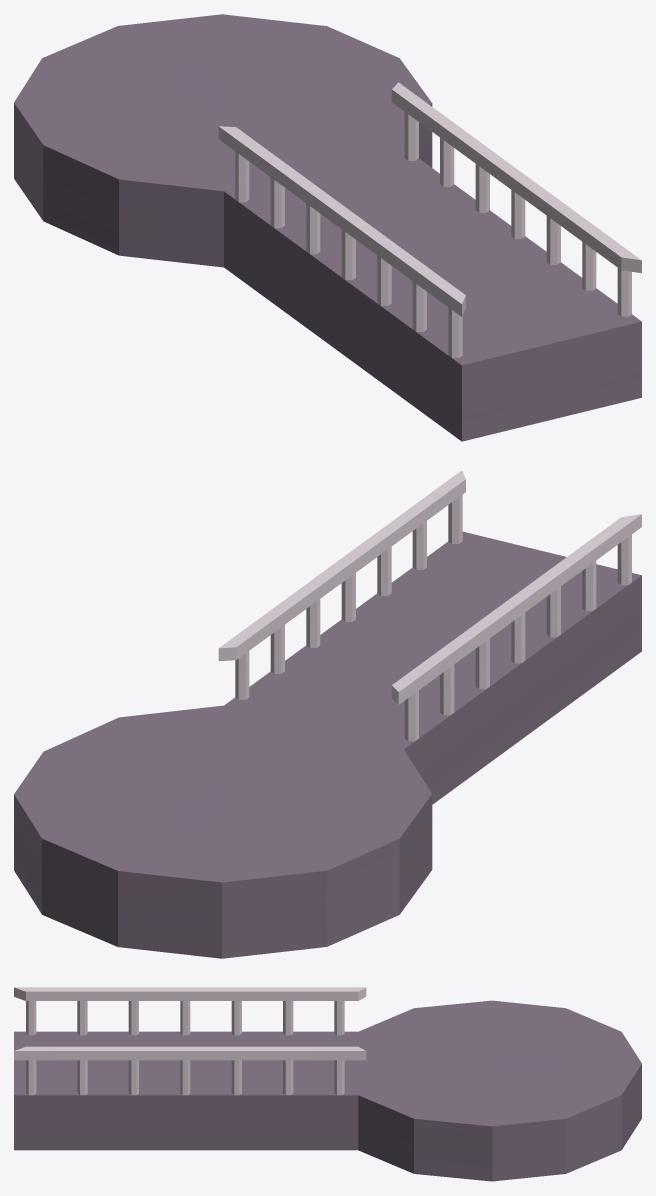
Rendered from start_platform1.0.glb.
The picture shows the model from 3 angles, top to bottom: view 1: azimuth 30°, elevation 25°; view 2: azimuth 150°, elevation 25°; view 3: azimuth 270°, elevation 25°; orthographic projection. The views are drawn at different scales.
Parts seen in each view (by area): view 1: starting_platform.001; view 2: starting_platform.001; view 3: starting_platform.001.
Part boxes in pixels (x1,y1,x2,y2): starting_platform.001: [14, 14, 641, 441]; starting_platform.001: [14, 470, 641, 958]; starting_platform.001: [14, 987, 641, 1181].
Size of the model in its own units: 6.4 by 2.36 by 13.51.
1 material, 1 textured.
